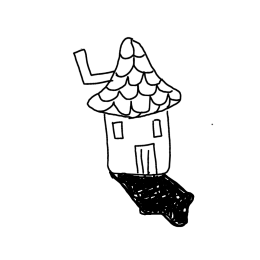chimney: (65, 45, 121, 89)
door: (131, 141, 160, 178)
open_window: (147, 115, 168, 138), (108, 120, 128, 140)
roof: (85, 28, 184, 114)
shadow: (106, 170, 200, 231)
wall: (98, 113, 180, 174)
